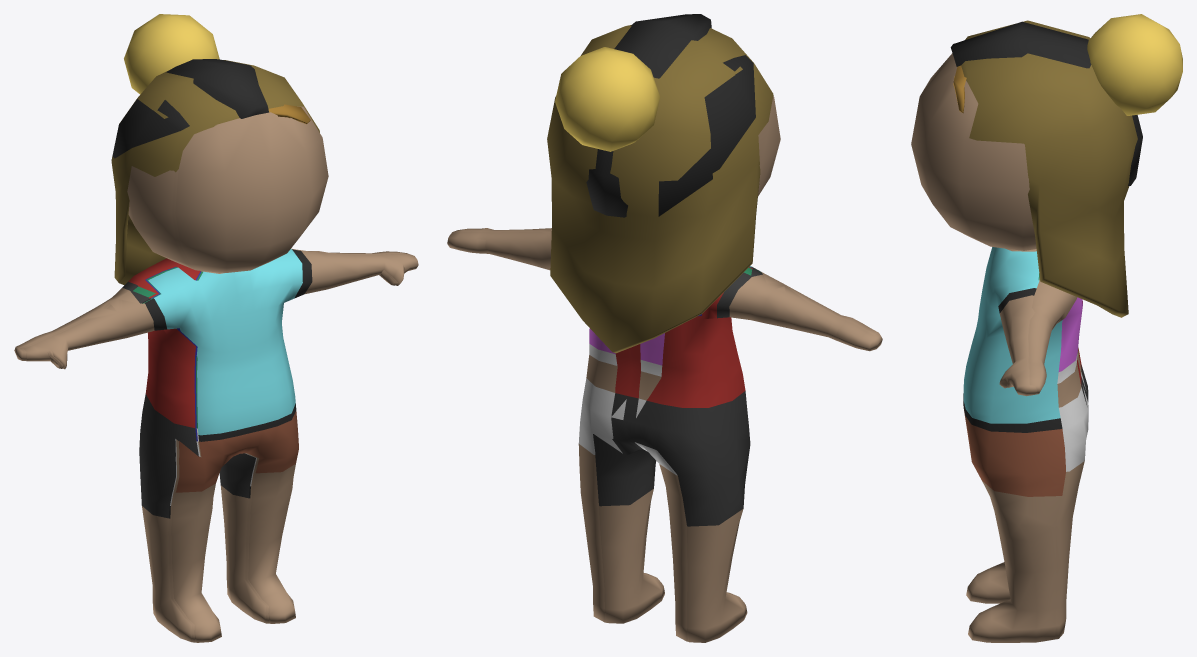
Rendered from FaceMatchChar.fbx.
3 renders of one model, left to right at view 1: azimuth 30°, elevation 25°; view 2: azimuth 150°, elevation 25°; view 3: azimuth 270°, elevation 25°, orthographic. The views are drawn at different scales.
Parts seen in each view (by area): view 1: Stickman4, Stickman1, Stickman2, Stickman, Stickman3; view 2: Stickman2, Stickman1, Stickman, Stickman4, Stickman3; view 3: Stickman4, Stickman2, Stickman, Stickman1.
Part boxes in pixels (x1,y1,x2,y2): Stickman4: [23, 59, 418, 642]; Stickman1: [14, 104, 395, 642]; Stickman2: [20, 60, 397, 642]; Stickman: [124, 14, 411, 255]; Stickman3: [20, 99, 396, 642]; Stickman2: [472, 25, 879, 603]; Stickman1: [460, 96, 882, 642]; Stickman: [447, 47, 856, 641]; Stickman4: [449, 14, 879, 602]; Stickman3: [643, 55, 879, 602]; Stickman4: [911, 21, 1142, 642]; Stickman2: [961, 20, 1137, 369]; Stickman: [1008, 14, 1182, 639]; Stickman1: [953, 65, 1088, 421].
Bounding box in the file's own units: 145 × 196 × 80.5.
